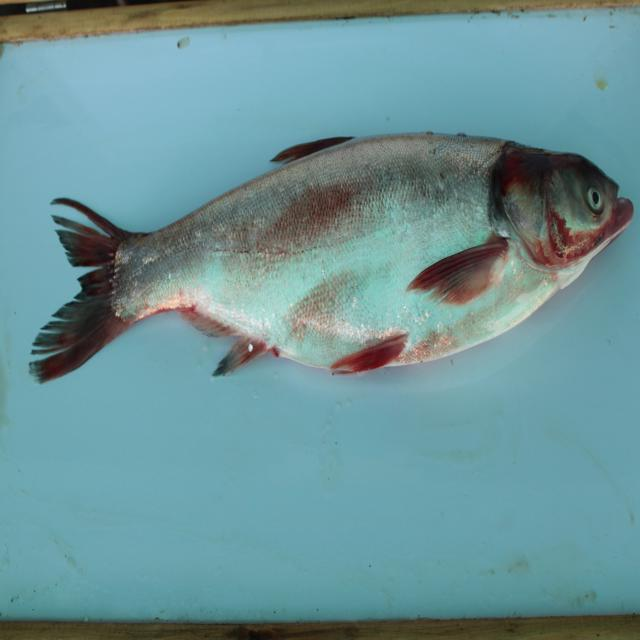SilverCarp: (42, 127, 635, 395)
